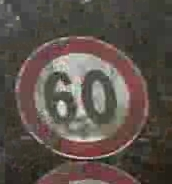limite 60: (8, 31, 156, 162)
